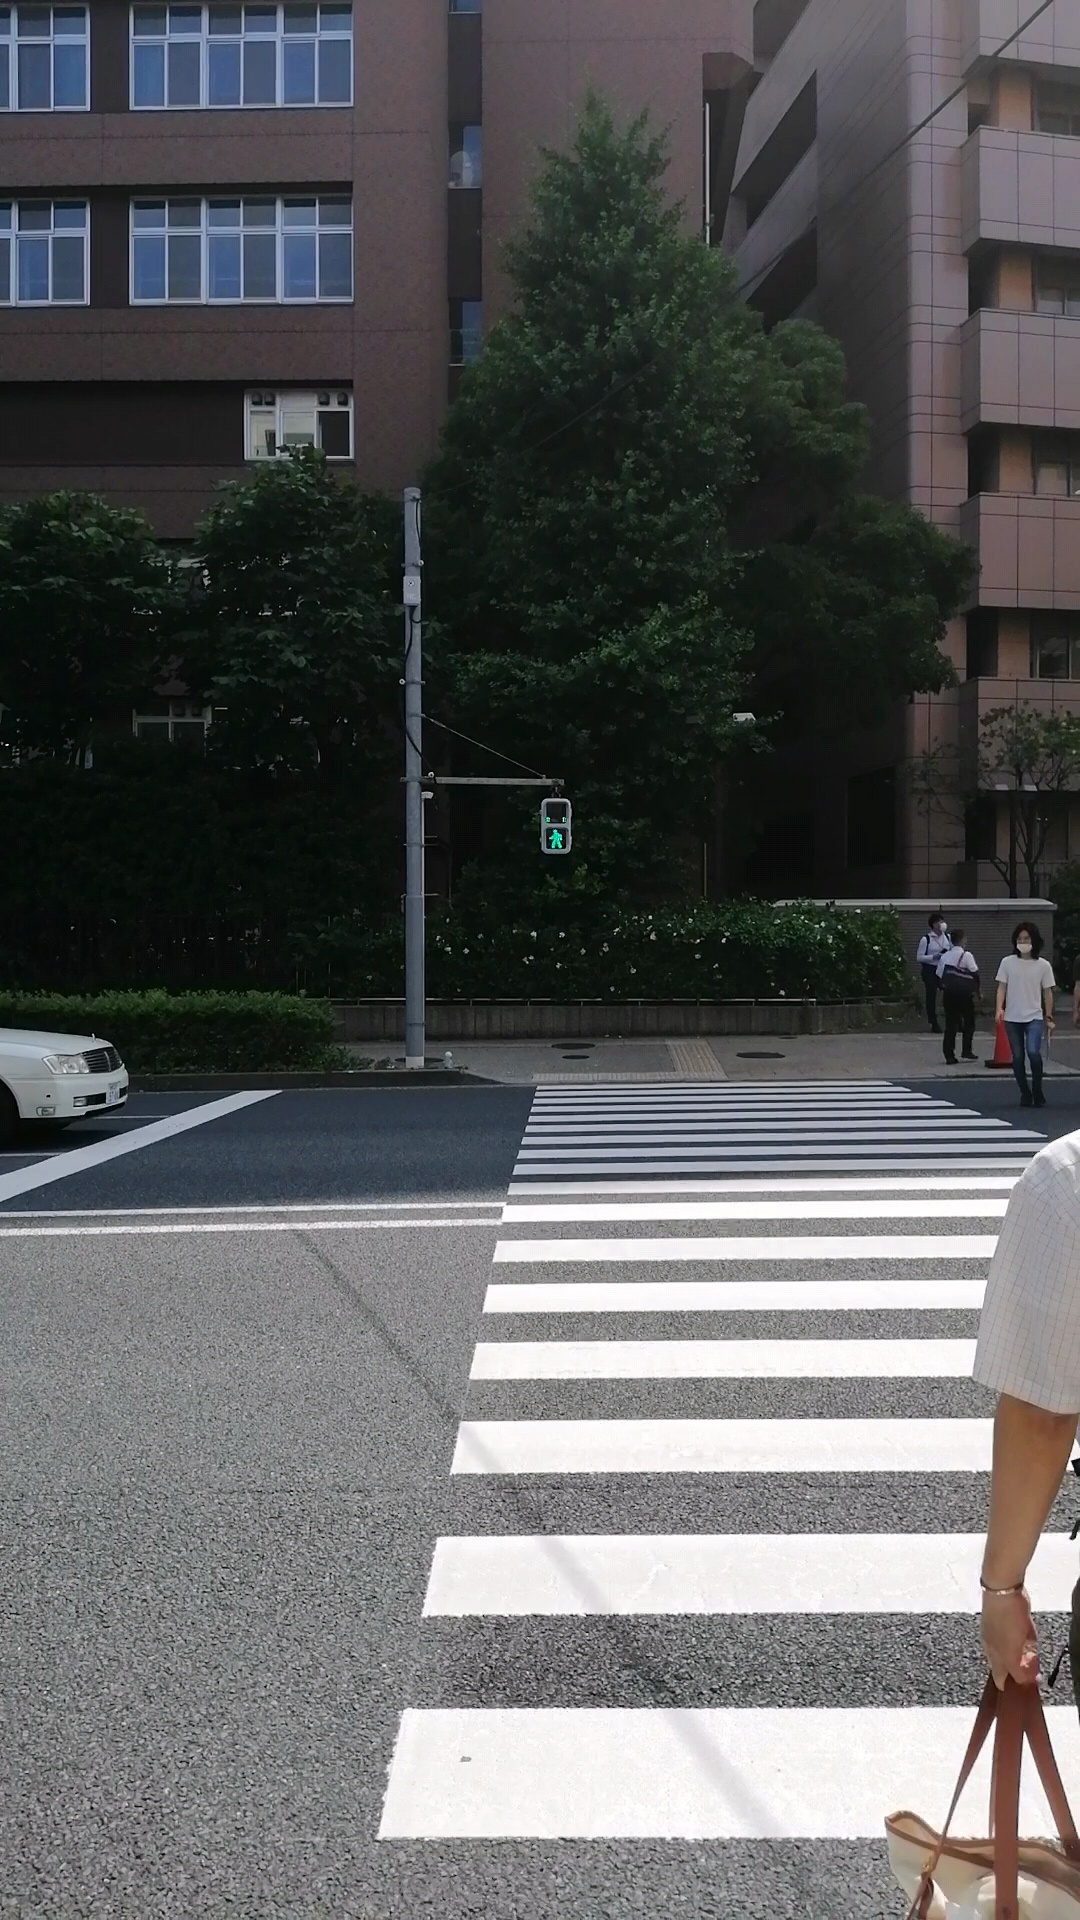green: (538, 796, 572, 855)
